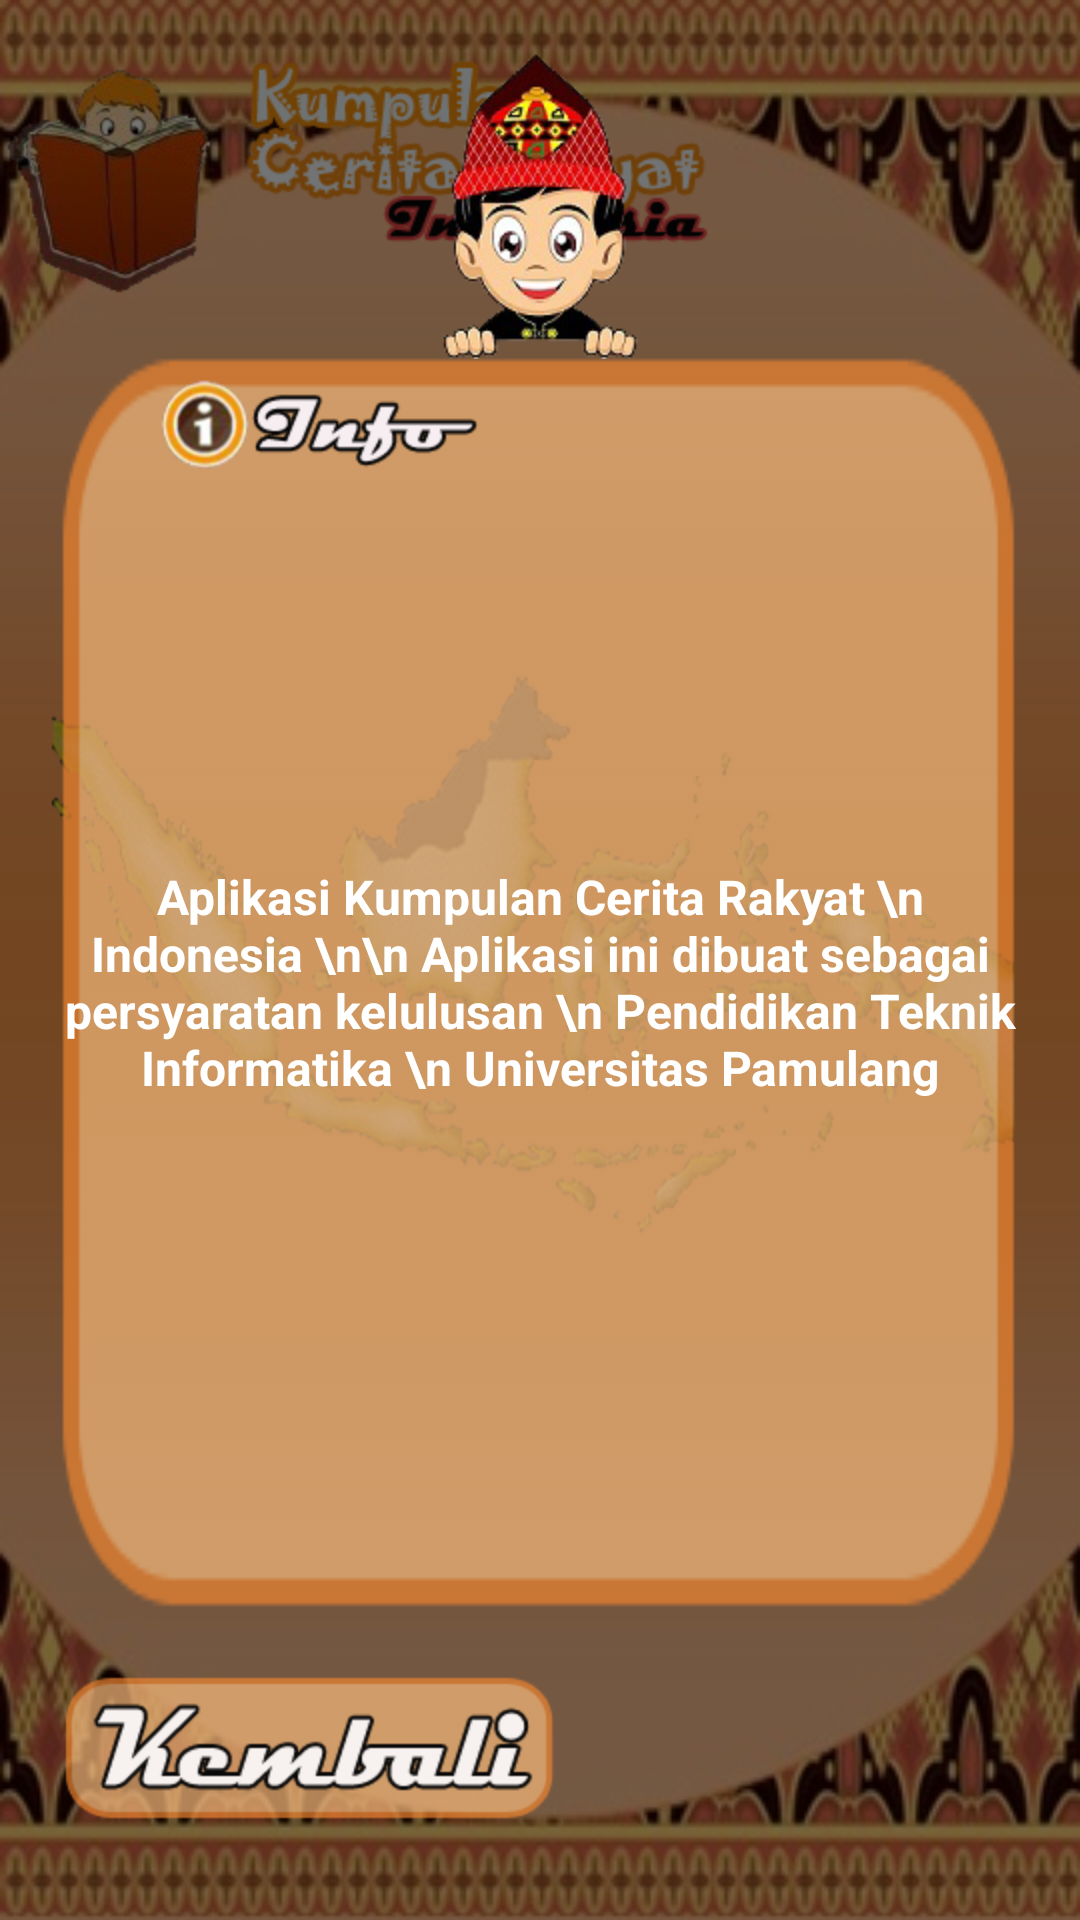

Where icons sit on this 1080px x 1920px app screen, as (x1, y1, x2, y2):
baca: (0, 60, 222, 302)
